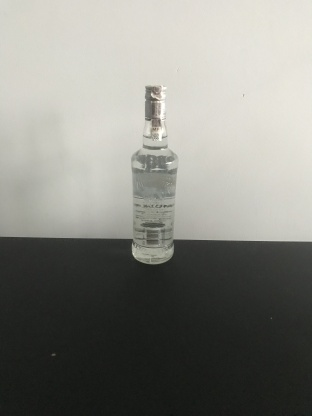nakretka: (142, 82, 168, 121)
